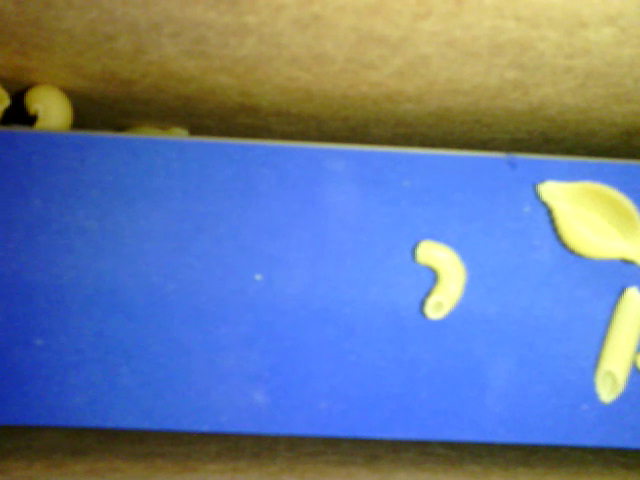elbow: (414, 238, 470, 322)
penne: (589, 287, 638, 409)
shell: (529, 179, 638, 266), (22, 85, 75, 132)
